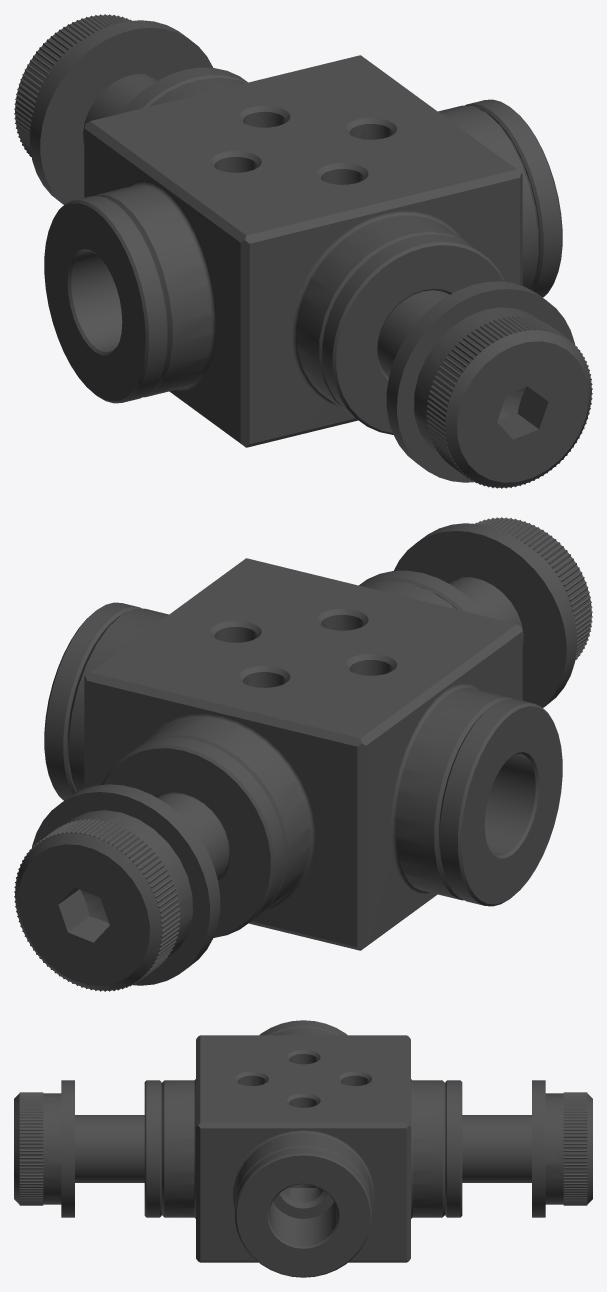
Rendered from link_left_ankle_y.glb.
The picture shows the model from 3 angles, top to bottom: view 1: azimuth 30°, elevation 25°; view 2: azimuth 150°, elevation 25°; view 3: azimuth 270°, elevation 25°; orthographic projection. The views are drawn at different scales.
Parts seen in each view (by area): view 1: link_left_ankle_y; view 2: link_left_ankle_y; view 3: link_left_ankle_y.
Boxes of the visible parts, x1=… form: link_left_ankle_y: x1=14, y1=14, x2=592, y2=488; link_left_ankle_y: x1=14, y1=517, x2=592, y2=991; link_left_ankle_y: x1=14, y1=1020, x2=592, y2=1277.
Bounding box in the file's own units: 0.037 × 0.018 × 0.0674.
Materials: 1 (1 with a texture image).
